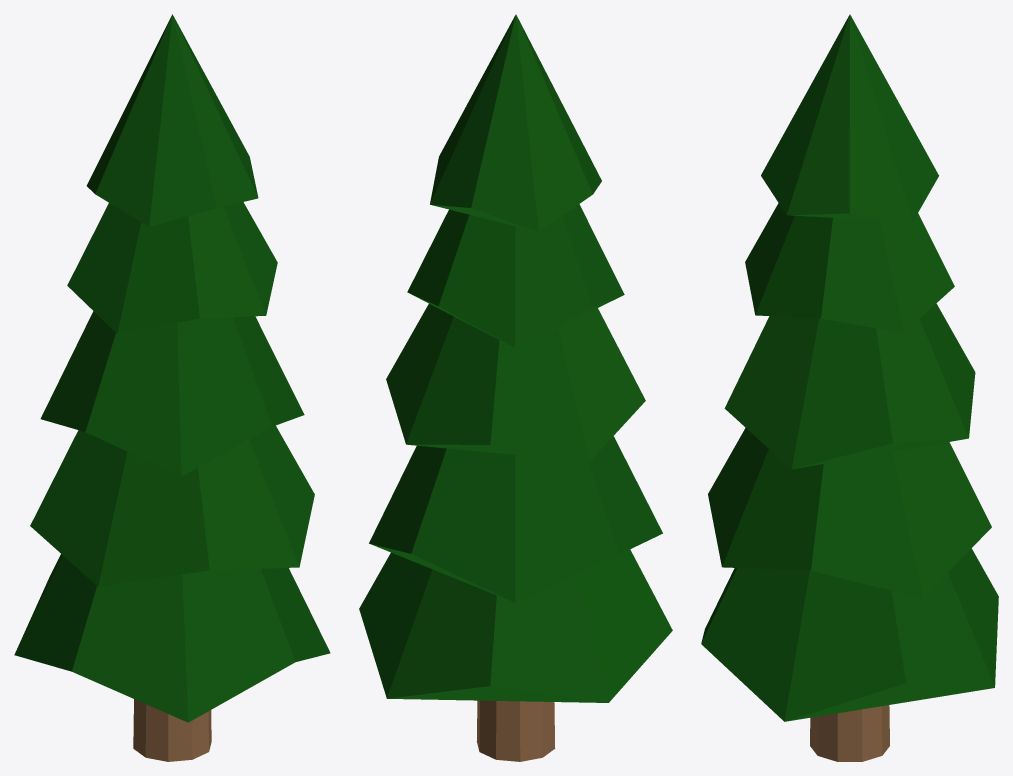
Rendered from Fir_6.fbx.
3 views of the same model, side by side, from view 1: azimuth 30°, elevation 25°; view 2: azimuth 150°, elevation 25°; view 3: azimuth 270°, elevation 25° (orthographic).
Parts seen in each view (by area): view 1: Fir6_mesh; view 2: Fir6_mesh; view 3: Fir6_mesh.
Boxes of the visible parts, bbox=[...] form: Fir6_mesh: bbox=[14, 14, 330, 761]; Fir6_mesh: bbox=[359, 14, 672, 761]; Fir6_mesh: bbox=[701, 14, 998, 761].
Bounding box in the file's own units: 334 × 905 × 334.
